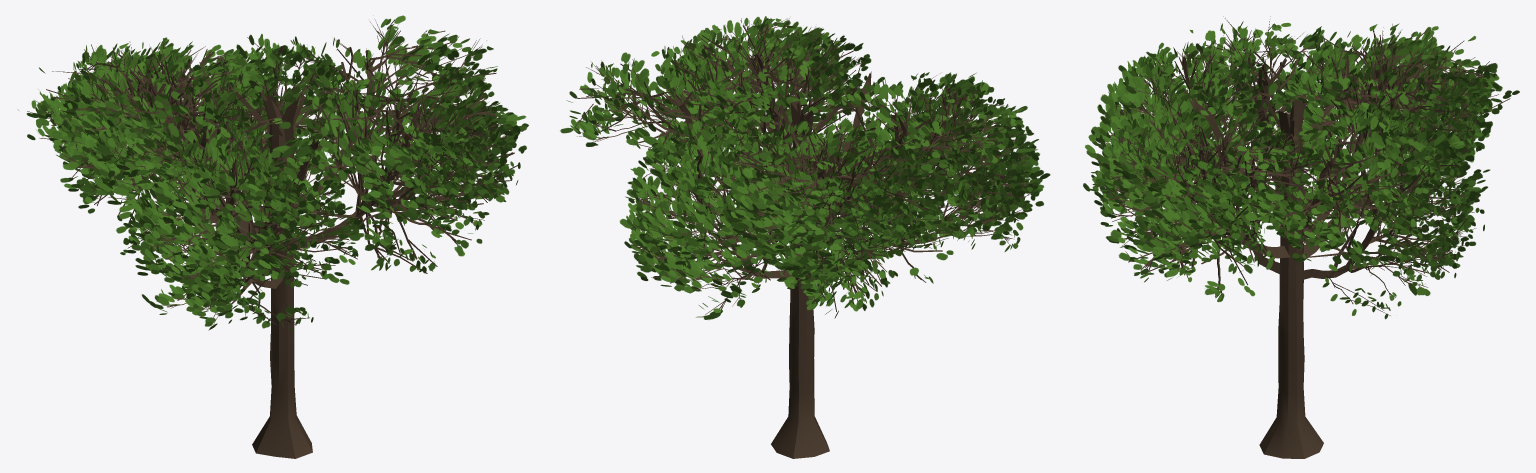
3 views of the same model, side by side, from view 1: azimuth 30°, elevation 25°; view 2: azimuth 150°, elevation 25°; view 3: azimuth 270°, elevation 25° (orthographic). The views are drawn at different scales.
Visible parts, largest first — view 1: oak 01.001_trunk_Mat.001_0.097; view 2: oak 01.001_trunk_Mat.001_0.097; view 3: oak 01.001_trunk_Mat.001_0.097.
Boxes of the visible parts, bbox=[...] form: oak 01.001_trunk_Mat.001_0.097: bbox=[17, 15, 528, 458]; oak 01.001_trunk_Mat.001_0.097: bbox=[560, 16, 1050, 458]; oak 01.001_trunk_Mat.001_0.097: bbox=[1083, 16, 1519, 458].
Bounding box in the file's own units: 4.44 × 3.74 × 4.14.
Materials: 2 (1 with a texture image).
